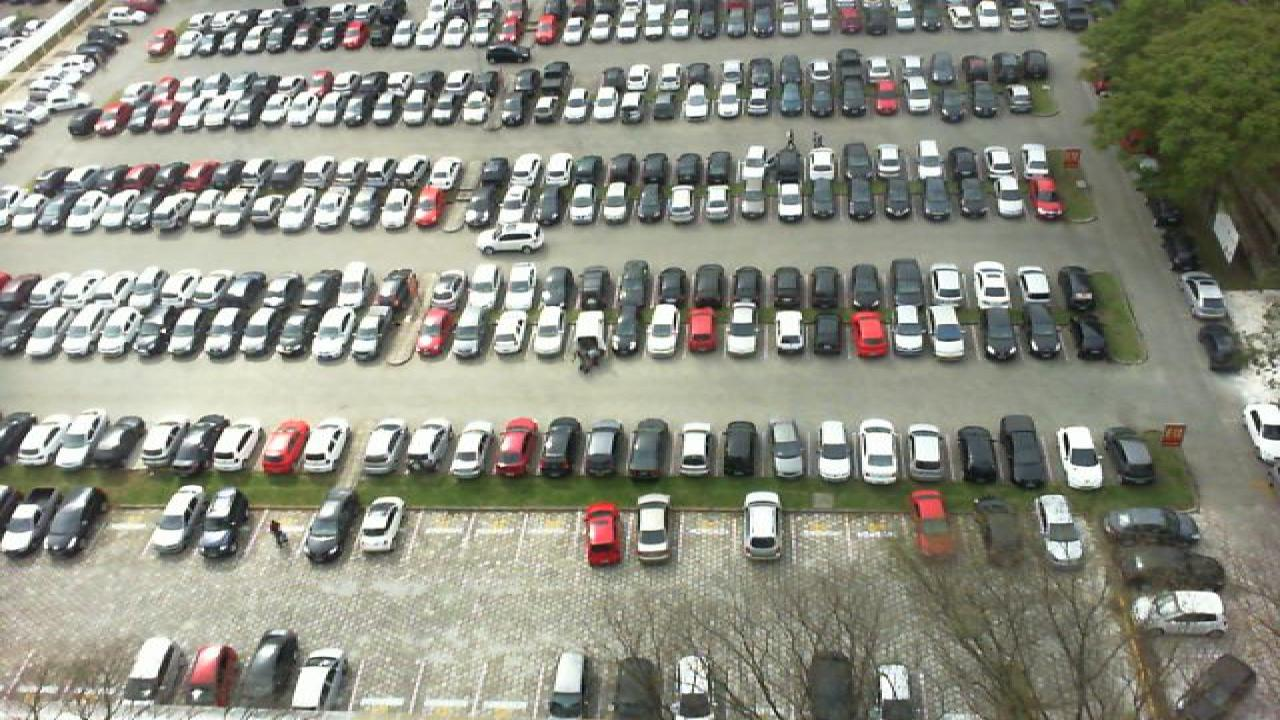Car: (1128, 590, 1230, 636), (42, 485, 106, 555), (302, 492, 358, 566), (244, 629, 298, 702), (120, 636, 176, 706), (180, 642, 236, 711), (198, 486, 250, 558), (1036, 494, 1086, 568), (152, 485, 204, 556), (290, 655, 346, 719), (1106, 505, 1202, 542), (910, 489, 960, 560), (998, 414, 1046, 487), (1106, 425, 1158, 486), (1056, 424, 1102, 491), (740, 490, 784, 560), (14, 413, 68, 470), (546, 651, 590, 719), (634, 492, 676, 562), (56, 409, 104, 470), (0, 486, 44, 552), (580, 502, 624, 567), (538, 416, 584, 478), (624, 418, 670, 480), (100, 413, 150, 470), (26, 305, 78, 358), (672, 655, 714, 719), (180, 414, 228, 470), (360, 495, 404, 556), (494, 416, 538, 477), (860, 423, 904, 484), (954, 424, 998, 485), (580, 419, 626, 477), (812, 419, 854, 482), (356, 423, 404, 477), (142, 418, 188, 474), (908, 423, 950, 484), (720, 420, 764, 478), (1242, 400, 1280, 467), (70, 305, 118, 358), (262, 420, 308, 474), (766, 421, 808, 480), (112, 305, 158, 358), (212, 423, 260, 473), (674, 423, 716, 480), (448, 425, 492, 479), (192, 305, 236, 359), (404, 423, 448, 476), (926, 307, 970, 360), (306, 423, 350, 475), (1188, 270, 1232, 322), (230, 307, 274, 359), (152, 306, 196, 358), (980, 306, 1022, 360), (346, 307, 388, 361), (1020, 307, 1062, 360), (760, 306, 802, 359), (308, 307, 350, 360), (448, 306, 490, 358), (272, 306, 314, 358), (676, 305, 716, 358), (804, 307, 844, 359), (488, 306, 528, 358), (414, 306, 454, 358), (614, 260, 650, 315), (636, 306, 674, 358), (886, 256, 924, 308), (722, 306, 758, 360), (568, 308, 604, 362), (890, 305, 926, 358), (0, 189, 42, 234), (600, 307, 636, 359), (530, 306, 566, 358), (1070, 308, 1106, 359), (850, 310, 888, 358), (974, 260, 1012, 308), (928, 262, 968, 307), (156, 185, 196, 230), (118, 187, 158, 232), (1016, 261, 1054, 308), (40, 188, 80, 232), (234, 186, 272, 232), (844, 262, 880, 310), (80, 187, 118, 232), (0, 304, 34, 354), (196, 187, 234, 231), (538, 264, 574, 310), (374, 268, 414, 309), (306, 186, 344, 229), (424, 268, 464, 308), (502, 261, 536, 308), (142, 266, 180, 308), (728, 263, 764, 307), (688, 264, 724, 308), (576, 264, 612, 308), (464, 264, 500, 308), (1064, 264, 1098, 310), (806, 264, 840, 310), (768, 264, 802, 310), (272, 184, 306, 230), (344, 184, 378, 229), (180, 268, 218, 308), (104, 270, 144, 308), (650, 264, 684, 308), (458, 184, 492, 228), (414, 184, 448, 228), (64, 270, 104, 307), (298, 267, 334, 308), (338, 261, 370, 307), (1032, 176, 1064, 221), (956, 175, 988, 220), (772, 179, 804, 223), (564, 181, 596, 225), (494, 182, 526, 226), (380, 185, 412, 229), (220, 270, 258, 307), (26, 271, 64, 308), (258, 269, 294, 308), (922, 176, 954, 219), (884, 178, 916, 221), (808, 178, 840, 221), (734, 180, 766, 223), (630, 181, 662, 224), (530, 182, 562, 225), (700, 181, 732, 223), (108, 161, 146, 196), (770, 144, 804, 183), (994, 176, 1024, 220), (846, 178, 878, 219), (666, 183, 698, 224), (1018, 143, 1052, 181), (598, 181, 628, 224), (218, 158, 252, 194), (182, 160, 218, 194), (72, 162, 108, 196), (882, 142, 914, 180), (844, 142, 876, 180), (34, 163, 70, 196), (918, 138, 946, 180), (254, 158, 288, 192), (146, 161, 180, 195), (702, 150, 734, 186), (476, 155, 510, 188), (426, 155, 460, 188), (740, 143, 768, 183), (510, 152, 542, 187), (358, 155, 390, 190), (324, 155, 356, 189), (290, 156, 322, 190), (986, 145, 1016, 181), (952, 144, 982, 180), (392, 156, 424, 188), (574, 153, 604, 187), (542, 153, 572, 187), (810, 145, 838, 181), (638, 153, 668, 186), (606, 153, 636, 186), (670, 152, 700, 184)
